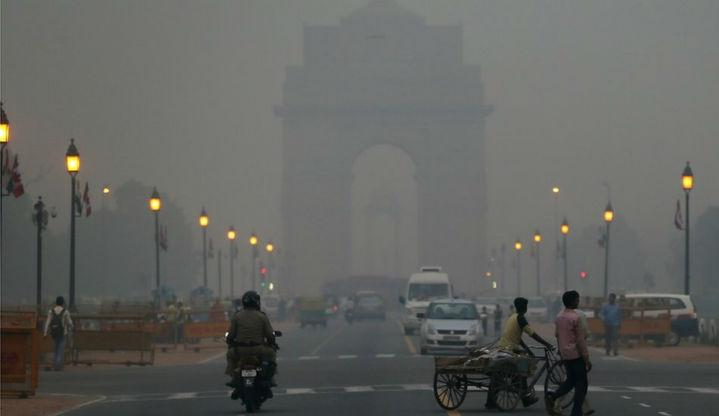backpack: (227, 293, 277, 357), (41, 298, 72, 359), (231, 301, 272, 340), (35, 300, 61, 349), (226, 315, 267, 344), (555, 312, 579, 360), (223, 306, 255, 341), (245, 310, 277, 342), (498, 312, 526, 348), (602, 299, 618, 340), (224, 308, 241, 346), (55, 310, 75, 342), (48, 308, 66, 337), (43, 307, 57, 336), (603, 305, 619, 326), (61, 309, 74, 334), (600, 304, 614, 322)
bench: (30, 305, 163, 370), (76, 286, 190, 354), (51, 296, 150, 347), (419, 298, 487, 358), (136, 284, 195, 350), (68, 330, 155, 368), (71, 315, 155, 353), (40, 328, 119, 368), (595, 311, 680, 348), (93, 311, 170, 348), (188, 301, 227, 350), (77, 311, 151, 336), (89, 329, 153, 355), (78, 347, 149, 368), (202, 300, 231, 341), (182, 318, 226, 345), (296, 299, 335, 327), (181, 329, 225, 353), (187, 311, 228, 334), (96, 313, 146, 330), (0, 310, 37, 332), (62, 333, 81, 365), (181, 336, 214, 352)
bicycle: (419, 321, 655, 415), (440, 342, 569, 415), (479, 305, 568, 402), (503, 340, 614, 406), (448, 329, 554, 388), (552, 285, 594, 415), (531, 321, 593, 409), (495, 336, 560, 413), (500, 298, 559, 376), (474, 352, 548, 410), (224, 338, 279, 413), (510, 355, 582, 412), (508, 326, 573, 380), (521, 335, 569, 397), (499, 347, 543, 404), (42, 302, 78, 370), (547, 339, 580, 410), (548, 345, 589, 388), (541, 342, 571, 389), (600, 292, 621, 356), (671, 314, 702, 343), (217, 299, 236, 341), (207, 298, 229, 334), (63, 339, 89, 367), (224, 302, 241, 343), (698, 316, 717, 345), (222, 310, 234, 342)
boat: (399, 265, 455, 328), (295, 299, 334, 327)
bottle: (552, 289, 595, 413), (0, 101, 11, 143)
bus: (337, 269, 426, 329), (413, 286, 473, 355), (616, 293, 692, 345), (399, 266, 454, 331), (328, 275, 392, 320), (294, 295, 334, 320), (297, 302, 332, 328)
car: (231, 307, 560, 415), (255, 326, 426, 413), (499, 295, 662, 368), (432, 342, 567, 414), (386, 294, 498, 366), (292, 326, 418, 377), (556, 293, 676, 346), (374, 280, 463, 348), (450, 294, 543, 358), (337, 269, 426, 329), (223, 290, 280, 377), (520, 292, 609, 347), (606, 293, 700, 345), (547, 289, 603, 372), (321, 292, 412, 343), (355, 310, 444, 357), (319, 317, 420, 358), (403, 268, 461, 338), (490, 296, 556, 356), (418, 298, 486, 356), (447, 298, 505, 348), (328, 275, 392, 320), (284, 283, 354, 324), (197, 300, 262, 342), (475, 298, 525, 351), (617, 292, 695, 324), (225, 298, 279, 344), (621, 307, 681, 346), (647, 299, 699, 343), (321, 272, 397, 301), (396, 288, 448, 330), (277, 294, 337, 329), (310, 292, 367, 323), (421, 299, 470, 333), (243, 294, 278, 335), (450, 298, 489, 334), (396, 303, 438, 335), (346, 291, 386, 324), (330, 286, 379, 312), (434, 295, 484, 320), (626, 324, 679, 347), (269, 294, 317, 319), (645, 315, 682, 347), (296, 296, 338, 321), (473, 301, 502, 337), (400, 302, 421, 351), (671, 314, 702, 343), (298, 303, 333, 328), (397, 295, 418, 334), (316, 295, 350, 319), (261, 300, 283, 336), (260, 291, 284, 323), (692, 316, 717, 345), (263, 310, 281, 349), (525, 295, 548, 323), (340, 294, 362, 321), (644, 329, 678, 346), (332, 295, 354, 320), (487, 302, 502, 335), (474, 303, 489, 334), (298, 312, 325, 328), (397, 295, 410, 325), (262, 310, 276, 337), (326, 296, 348, 313), (267, 313, 282, 337), (341, 296, 354, 318), (325, 299, 341, 316), (344, 299, 356, 321), (271, 327, 283, 348)
chair: (398, 267, 452, 333), (188, 305, 228, 342), (521, 330, 554, 358), (671, 314, 702, 343), (188, 285, 214, 318)
handbag: (555, 296, 590, 393), (227, 293, 277, 357), (41, 298, 72, 359), (547, 331, 578, 388), (231, 307, 271, 343), (246, 306, 277, 352), (35, 300, 61, 349), (553, 307, 579, 355), (557, 318, 589, 356), (224, 311, 258, 346), (497, 311, 524, 348), (546, 345, 569, 386), (577, 369, 594, 415), (62, 310, 77, 355), (261, 309, 278, 348), (602, 299, 618, 340), (224, 306, 241, 344), (47, 308, 64, 338), (262, 326, 281, 351), (52, 308, 68, 335), (43, 308, 57, 337), (581, 386, 595, 414), (224, 320, 237, 347), (46, 320, 63, 340), (603, 305, 619, 326), (600, 302, 613, 327), (64, 310, 75, 335), (41, 311, 51, 336), (584, 353, 592, 374)
horse: (494, 296, 553, 356)
motorcycle: (434, 341, 570, 414), (479, 307, 556, 395), (224, 298, 278, 391), (481, 346, 548, 409), (493, 297, 556, 359), (488, 335, 563, 387), (225, 340, 279, 412), (489, 300, 526, 354), (346, 291, 386, 324), (671, 314, 702, 343), (397, 295, 418, 334), (266, 323, 282, 351), (271, 329, 282, 351)
person: (467, 320, 585, 415), (519, 289, 602, 402), (495, 315, 559, 407), (552, 289, 595, 413), (224, 291, 277, 385), (416, 294, 488, 361), (484, 308, 532, 403), (224, 327, 280, 407), (495, 297, 557, 368), (468, 299, 531, 367), (616, 293, 692, 345), (544, 316, 585, 407), (534, 293, 575, 382), (398, 267, 452, 333), (515, 321, 564, 388), (211, 292, 251, 364), (230, 293, 280, 346), (222, 293, 262, 355), (41, 296, 74, 370), (554, 291, 589, 355), (493, 296, 529, 353), (527, 294, 564, 349), (514, 313, 557, 360), (501, 299, 543, 347), (477, 302, 517, 352), (180, 285, 213, 337), (518, 298, 553, 345), (188, 288, 226, 329), (246, 306, 277, 352), (636, 306, 672, 345), (600, 292, 622, 355), (347, 291, 386, 323), (248, 292, 276, 336), (672, 305, 701, 342), (652, 308, 680, 345), (543, 290, 566, 335), (498, 310, 526, 346), (47, 313, 68, 361), (492, 305, 515, 344), (508, 296, 530, 336), (260, 292, 281, 333), (215, 298, 236, 338), (60, 319, 78, 365), (207, 298, 228, 335), (474, 303, 495, 338), (188, 285, 214, 313), (486, 302, 505, 340), (224, 302, 241, 343), (59, 309, 76, 349), (261, 309, 278, 348), (45, 308, 65, 338), (602, 298, 618, 332), (397, 294, 412, 330), (266, 295, 287, 320), (273, 297, 289, 329), (207, 297, 224, 321), (511, 296, 529, 317), (493, 302, 503, 332), (325, 297, 340, 317), (286, 297, 297, 323), (292, 298, 303, 324), (496, 301, 506, 328), (276, 297, 287, 321), (281, 297, 292, 321), (643, 271, 655, 291)
potted plant: (143, 282, 192, 347), (163, 290, 206, 344), (179, 286, 215, 343), (141, 298, 175, 345), (165, 299, 189, 347), (148, 281, 182, 313)
skateboard: (41, 350, 63, 370)
traffic light: (64, 143, 80, 175), (258, 265, 274, 296), (0, 103, 11, 144), (599, 214, 612, 246), (597, 222, 609, 248), (558, 224, 569, 251), (259, 265, 270, 287), (256, 258, 266, 282), (149, 193, 162, 211), (198, 208, 209, 229), (532, 229, 542, 250), (559, 217, 569, 236), (550, 182, 560, 201), (102, 183, 113, 199), (513, 240, 524, 255)
truck: (547, 290, 696, 347), (360, 263, 472, 338), (450, 294, 543, 358), (337, 269, 426, 329), (407, 277, 486, 336), (616, 293, 692, 345), (417, 293, 481, 353), (399, 265, 455, 332), (328, 275, 392, 320), (284, 283, 354, 324), (304, 290, 375, 325), (622, 312, 679, 346), (345, 291, 386, 324), (284, 294, 331, 319), (307, 293, 345, 322), (295, 299, 334, 327), (260, 292, 283, 320), (299, 308, 328, 328)
